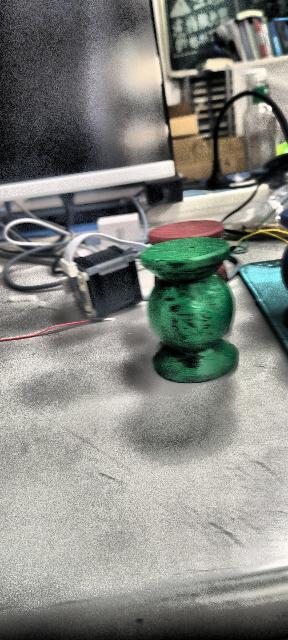green: (140, 235, 238, 383)
red: (141, 219, 238, 250)
